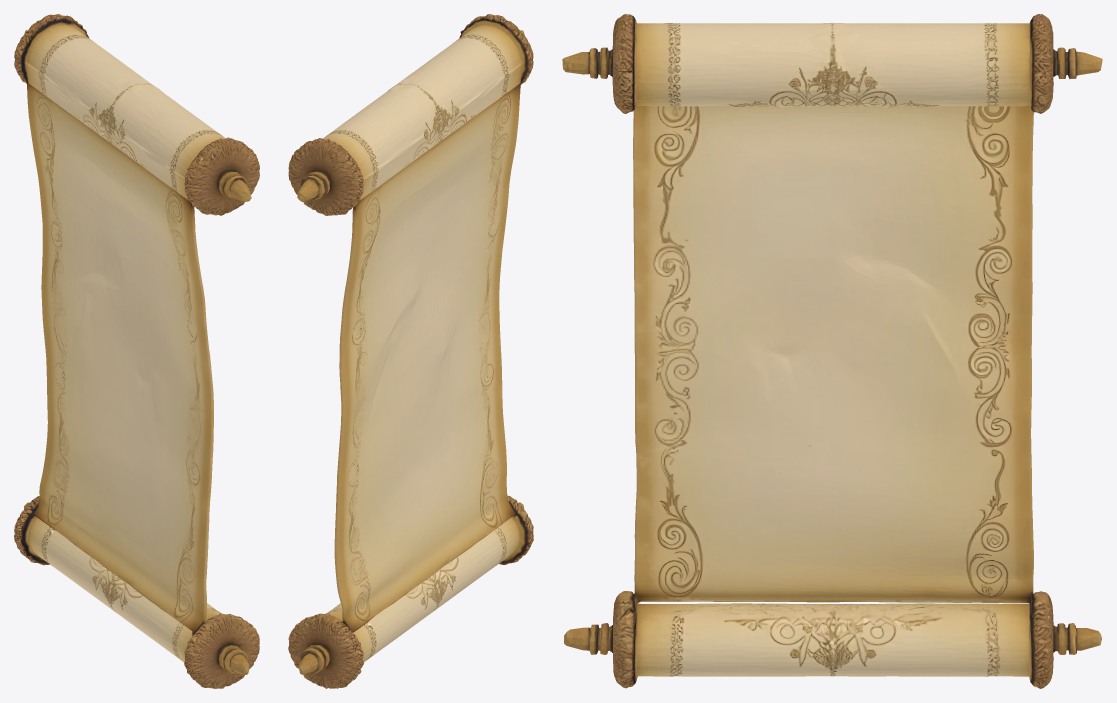
File: acta_independencia.glb
The picture shows the model from 3 angles, left to right: view 1: azimuth 30°, elevation 25°; view 2: azimuth 150°, elevation 25°; view 3: azimuth 270°, elevation 25°; orthographic projection. The views are drawn at different scales.
Visible parts, largest first — view 1: tripo_node_5ac53249-fa79-443a-bffe-d894883a4004_0; view 2: tripo_node_5ac53249-fa79-443a-bffe-d894883a4004_0; view 3: tripo_node_5ac53249-fa79-443a-bffe-d894883a4004_0.
Boxes of the visible parts, x1,y1,x2,y2 form: tripo_node_5ac53249-fa79-443a-bffe-d894883a4004_0: (14, 14, 259, 688); tripo_node_5ac53249-fa79-443a-bffe-d894883a4004_0: (288, 14, 533, 688); tripo_node_5ac53249-fa79-443a-bffe-d894883a4004_0: (562, 14, 1102, 688).
Bounding box in the file's own units: 0.1403 × 1 × 0.7347.
Materials: 1 (1 with a texture image).
